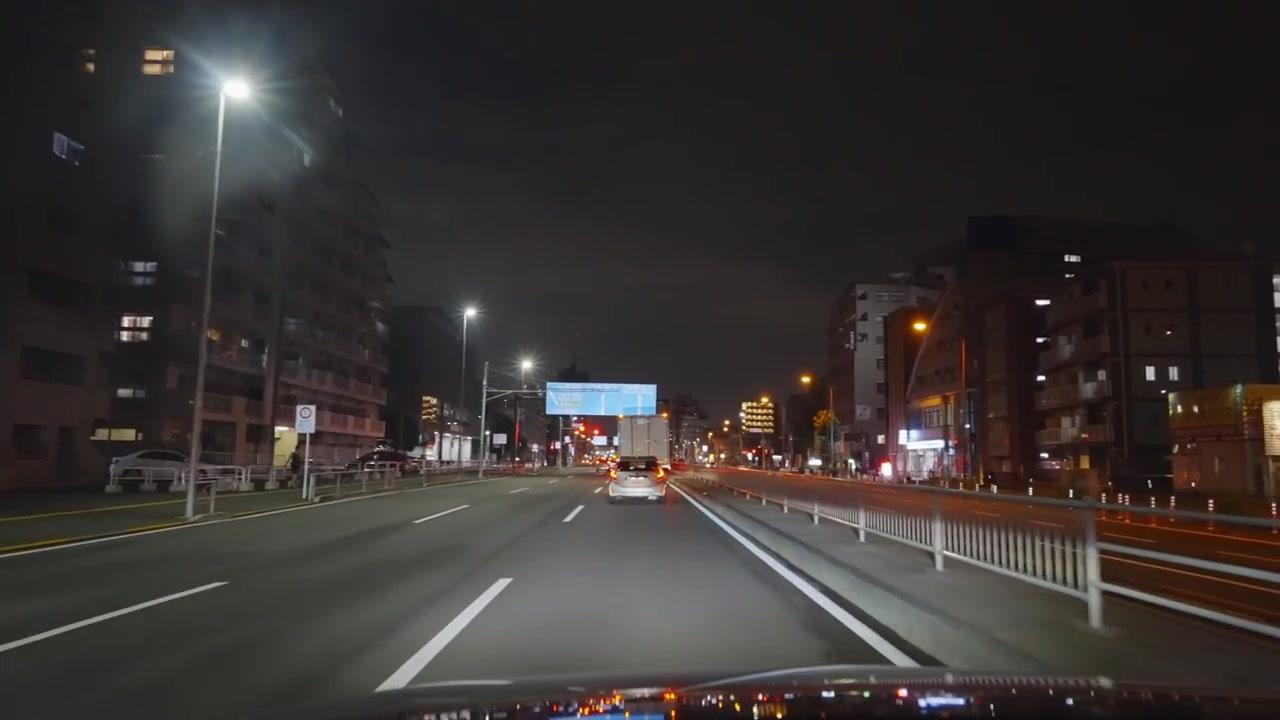car: (106, 448, 191, 493), (607, 455, 668, 504), (347, 448, 422, 475)
traffic light: (51, 132, 84, 166), (142, 47, 176, 75), (421, 395, 438, 424)
